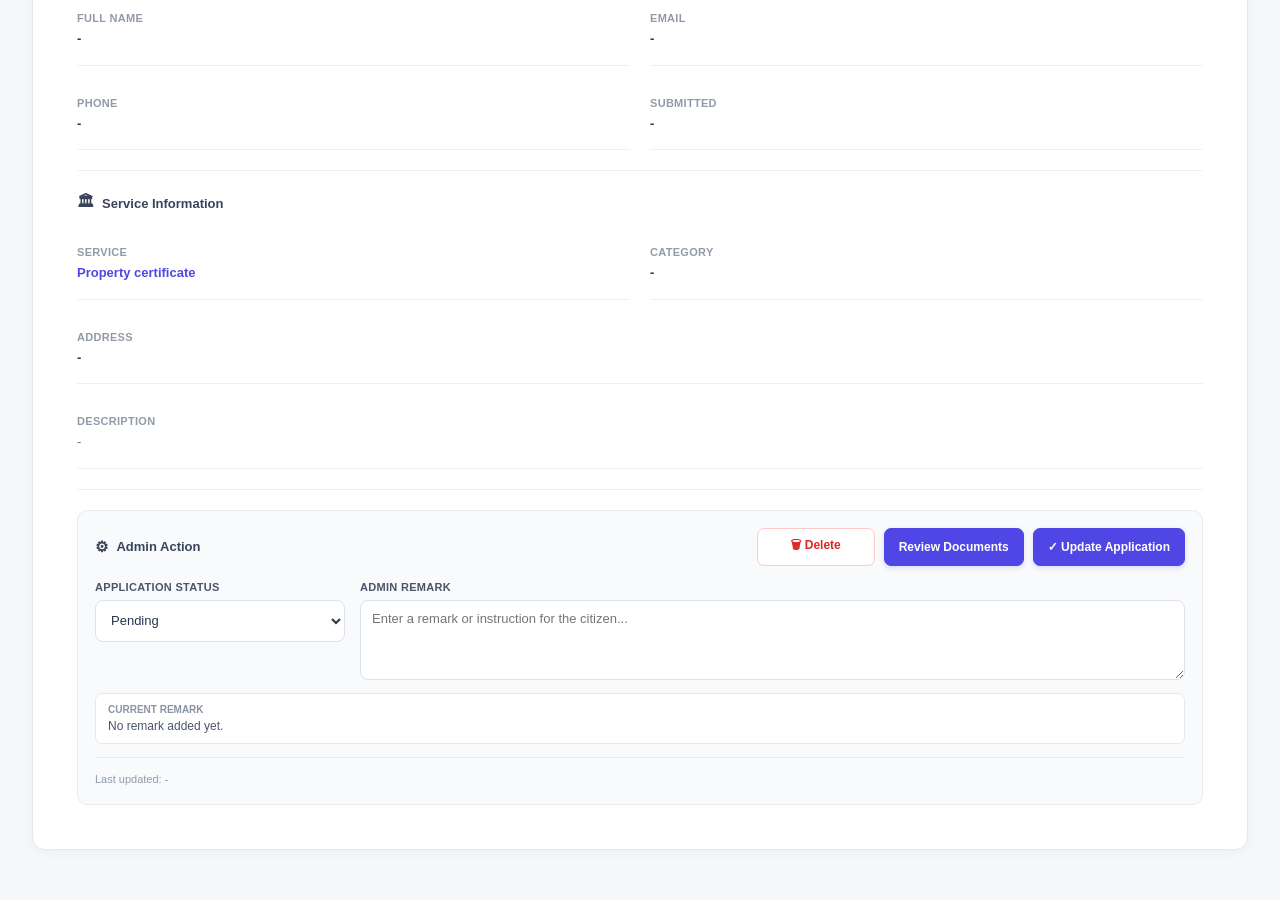
a blocked transition resets the selection and shows the verification reason next to the application
(page scrolled)
Select "In Progress" in the dropdown at (220, 620), box [95,600,345,642]
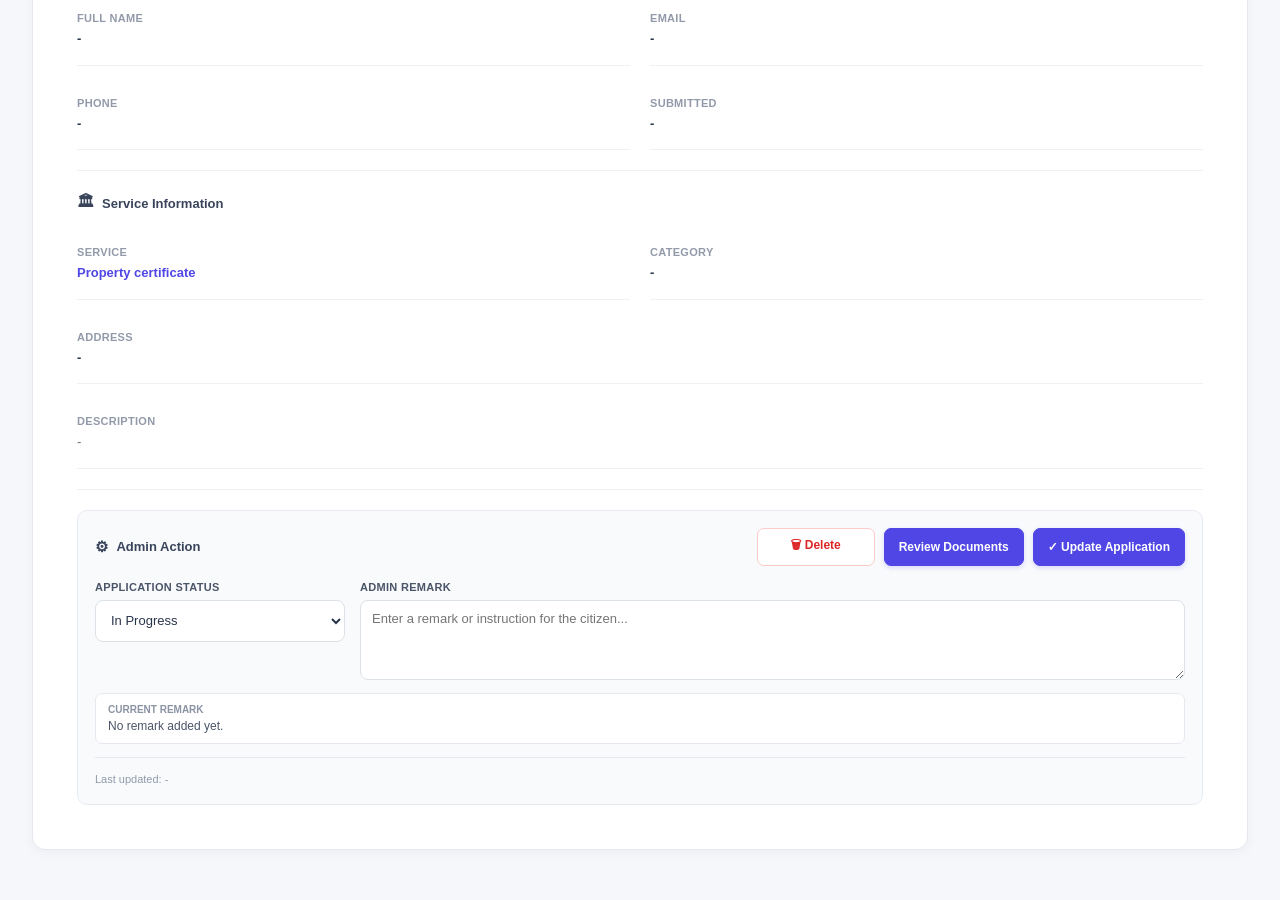
Click the button "✓ Update Application" at (1109, 546), box [1033,528,1185,566]
(page scrolled)
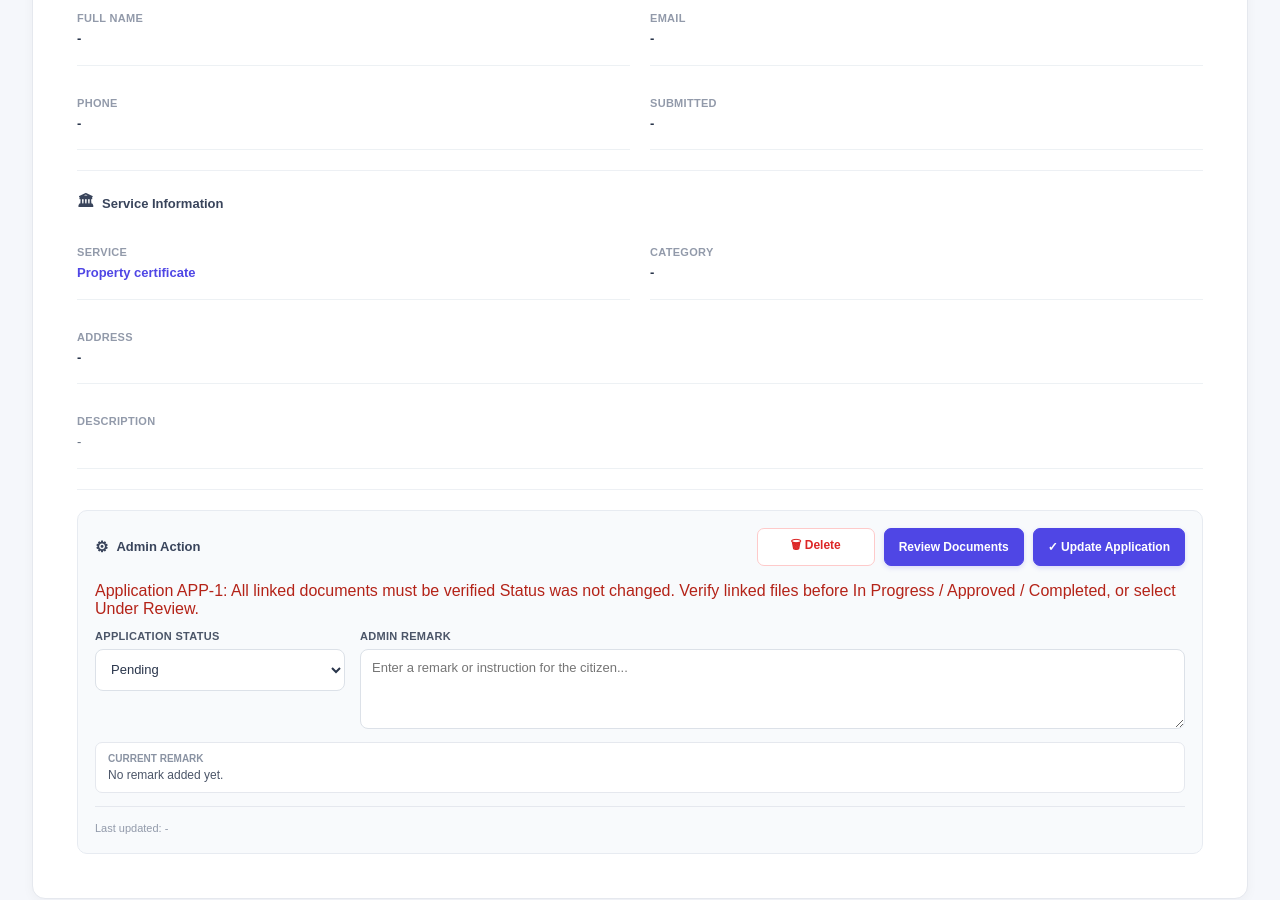
Check: the message shows "All linked documents must be verified", box [95,582,1176,616]
Check: the message shows "Status was not changed", box [95,582,1176,616]
